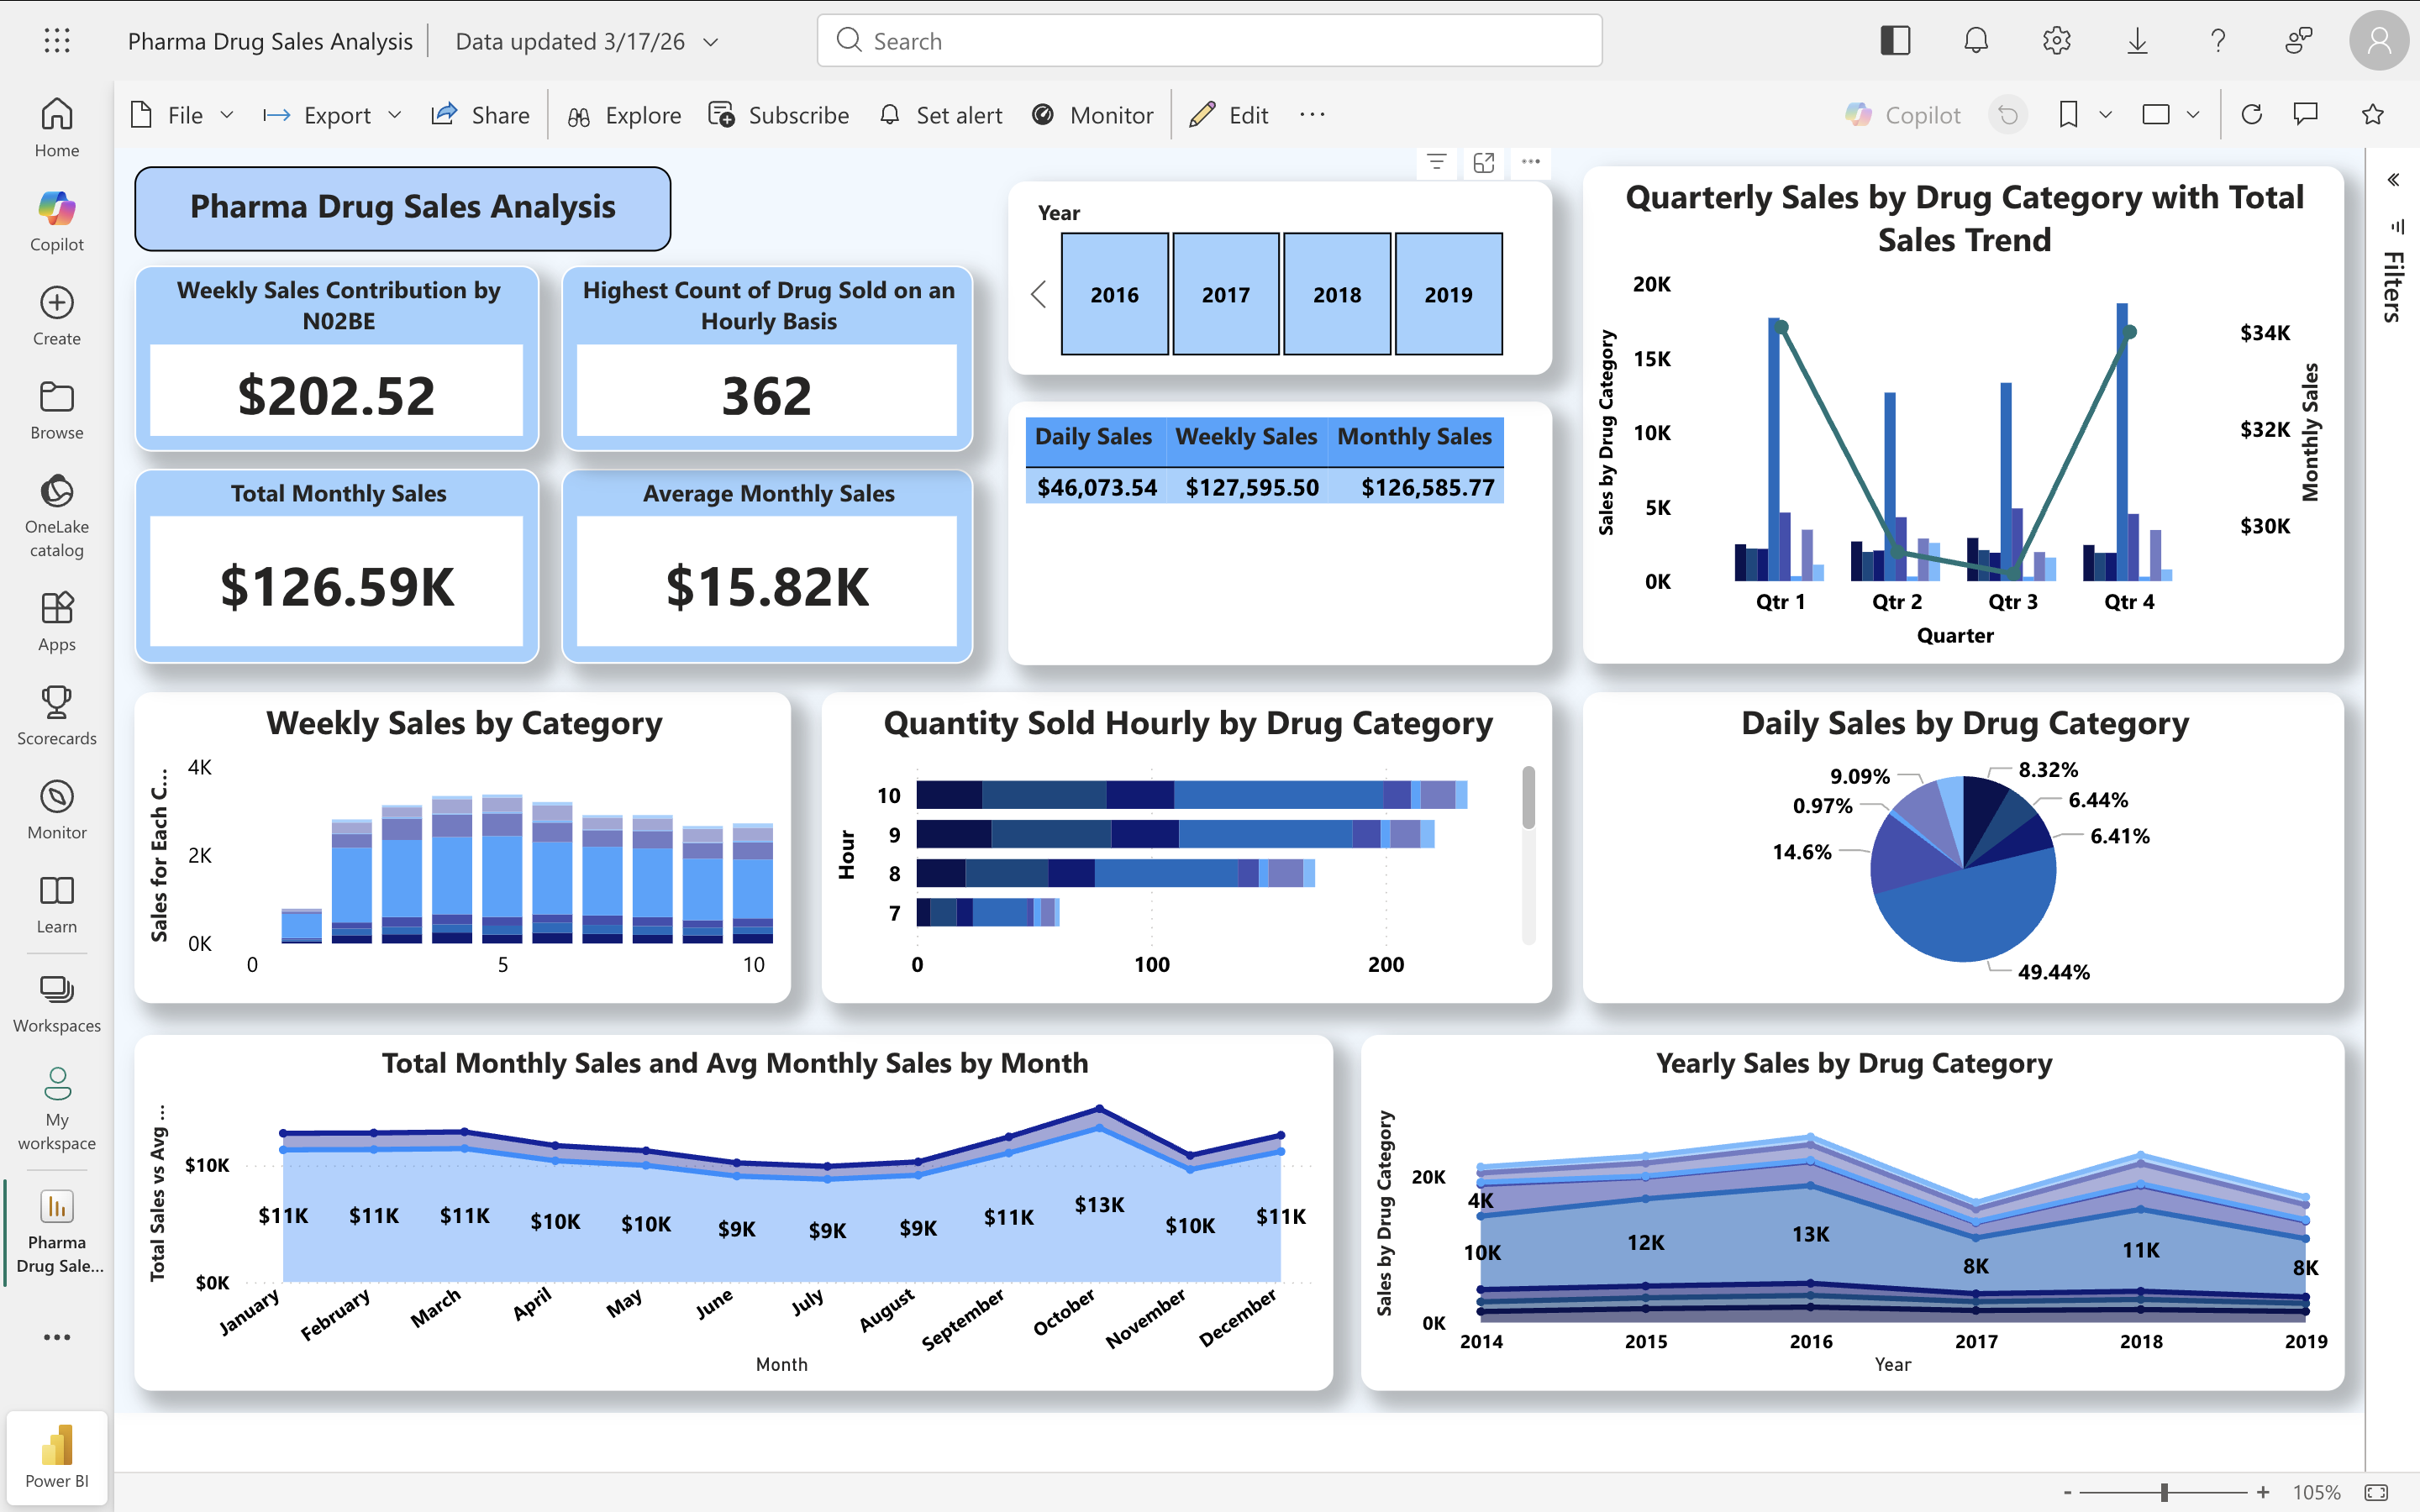

What the dashboard file says about the page in this screenshot:
{"tool":"powerbi","page":{"name":"Page 1","canvas":[1280,720],"ordinal":0},"visuals":[{"type":"textbox","box":[11.7,10.7,305.4,48.6],"z":0},{"type":"columnChart","title":"Weekly Sales by Category","fields":{"Category":["Sales Weekly.Week Num"],"Y":["Sum(Sales Weekly.M01AB)","Sum(Sales Weekly.M01AE)","Sum(Sales Weekly.N02BA)","Sum(Sales Weekly.N02BE)","Sum(Sales Weekly.N05B)","Sum(Sales Weekly.N05C)","Sum(Sales Weekly.R03)","Sum(Sales Weekly.R06)"]},"box":[11.7,309.3,373.5,177],"z":1000},{"type":"stackedAreaChart","title":"Total Monthly Sales and Avg Monthly Sales by Month","fields":{"Category":["Sales Monthly.Date.Variation.Date Hierarchy.Month"],"Y":["Sales Monthly.Total Monthly Sales","Sales Monthly.Avg Monthly Sales"]},"box":[11.7,504.8,681.8,202.3],"z":2000},{"type":"barChart","title":"Quantity Sold Hourly by Drug Category","fields":{"Category":["Sales Hourly.Hour"],"Y":["Count(Sales Hourly.M01AB)","Count(Sales Hourly.M01AE)","Count(Sales Hourly.N02BA)","Count(Sales Hourly.N02BE)","Count(Sales Hourly.N05B)","Count(Sales Hourly.N05C)","Count(Sales Hourly.R03)","Count(Sales Hourly.R06)"]},"box":[402.7,309.3,415.3,177],"z":3000},{"type":"pieChart","title":"Daily Sales by Drug Category","fields":{"Y":["Sum(Sales Hourly.M01AB)","Sum(Sales Hourly.M01AE)","Sum(Sales Hourly.N02BA)","Sum(Sales Hourly.N02BE)","Sum(Sales Hourly.N05B)","Sum(Sales Hourly.N05C)","Sum(Sales Hourly.R03)","Sum(Sales Hourly.R06)"]},"box":[835.5,309.3,432.8,177],"z":4000},{"type":"stackedAreaChart","title":"Yearly Sales by Drug Category","fields":{"Category":["Sales Monthly.Date.Variation.Date Hierarchy.Year"],"Y":["Sum(Sales Monthly.M01AB)","Sum(Sales Monthly.M01AE)","Sum(Sales Monthly.N02BA)","Sum(Sales Monthly.N02BE)","Sum(Sales Monthly.N05B)","Sum(Sales Monthly.N05C)","Sum(Sales Monthly.R03)","Sum(Sales Monthly.R06)"]},"box":[709.1,504.8,559.3,202.3],"z":5000},{"type":"lineClusteredColumnComboChart","title":"Quarterly Sales by Drug Category with Total Sales Trend","fields":{"Category":["Sales Monthly.Date.Variation.Date Hierarchy.Quarter"],"Y":["Sum(Sales Monthly.M01AB)","Sum(Sales Monthly.M01AE)","Sum(Sales Monthly.N02BA)","Sum(Sales Monthly.N02BE)","Sum(Sales Monthly.N05B)","Sum(Sales Monthly.N05C)","Sum(Sales Monthly.R03)","Sum(Sales Monthly.R06)"],"Y2":["Sales Monthly.Total Monthly Sales"]},"box":[835.5,10.7,432.8,283],"z":6000},{"type":"cardVisual","title":"Weekly Sales Contribution by N02BE","fields":{"Data":["Sales Weekly.weekly sales contribution by N02BE"]},"box":[11.7,67.1,230.5,106],"z":7000},{"type":"cardVisual","title":"Total Monthly Sales ","fields":{"Data":["Sales Monthly.Total Monthly Sales"]},"box":[11.7,182.9,230.5,110.9],"z":9000},{"type":"cardVisual","title":"Average Monthly Sales","fields":{"Data":["Sales Monthly.Avg Monthly Sales"]},"box":[253.9,182.9,234.4,110.9],"z":10000},{"type":"tableEx","fields":{"Values":["Sales Daily.Daily Sales","Sales Weekly.Weekly Sales","Sales Monthly.Total Monthly Sales"]},"box":[508.7,143.9,309.3,149.8],"z":11000},{"type":"slicer","fields":{"Values":["Sales Monthly.Date.Variation.Date Hierarchy.Year"]},"box":[508.7,19.4,309.3,109.9],"z":11001},{"type":"cardVisual","title":"Highest Count of Drug Sold on an Hourly Basis","fields":{"Data":["Count(Sales Hourly.N02BE)"]},"box":[253.9,67.1,234.4,106],"z":11002}]}

Visuals, with their boxes on the page's 1280x720 design canvas (x1, y1, x2, y2). These are canvas units, not pixel positions in the 2420x1512 screenshot, which may show the page scaled, cropped or inside an application window:
textbox: crop(12, 11, 317, 59)
"Weekly Sales by Category" columnChart: crop(12, 309, 385, 486)
"Total Monthly Sales and Avg Monthly Sales by Month" stackedAreaChart: crop(12, 505, 694, 707)
"Quantity Sold Hourly by Drug Category" barChart: crop(403, 309, 818, 486)
"Daily Sales by Drug Category" pieChart: crop(836, 309, 1268, 486)
"Yearly Sales by Drug Category" stackedAreaChart: crop(709, 505, 1268, 707)
"Quarterly Sales by Drug Category with Total Sales Trend" lineClusteredColumnComboChart: crop(836, 11, 1268, 294)
"Weekly Sales Contribution by N02BE" cardVisual: crop(12, 67, 242, 173)
"Total Monthly Sales " cardVisual: crop(12, 183, 242, 294)
"Average Monthly Sales" cardVisual: crop(254, 183, 488, 294)
tableEx - Sales Daily.Daily Sales x Sales Weekly.Weekly Sales: crop(509, 144, 818, 294)
slicer - Sales Monthly.Date.Variation.Date Hierarchy.Year: crop(509, 19, 818, 129)
"Highest Count of Drug Sold on an Hourly Basis" cardVisual: crop(254, 67, 488, 173)
